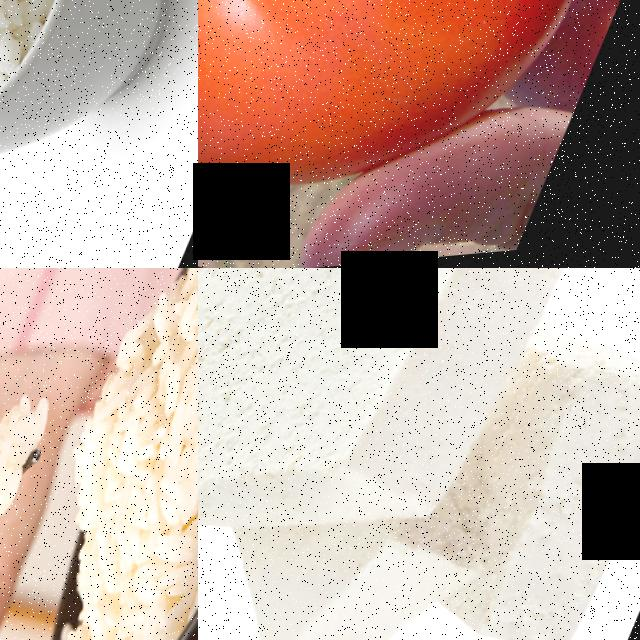tofu: (198, 268, 600, 637), (444, 317, 640, 640)
tomato: (198, 0, 640, 268)
white rice: (0, 268, 198, 640), (0, 0, 131, 212)
